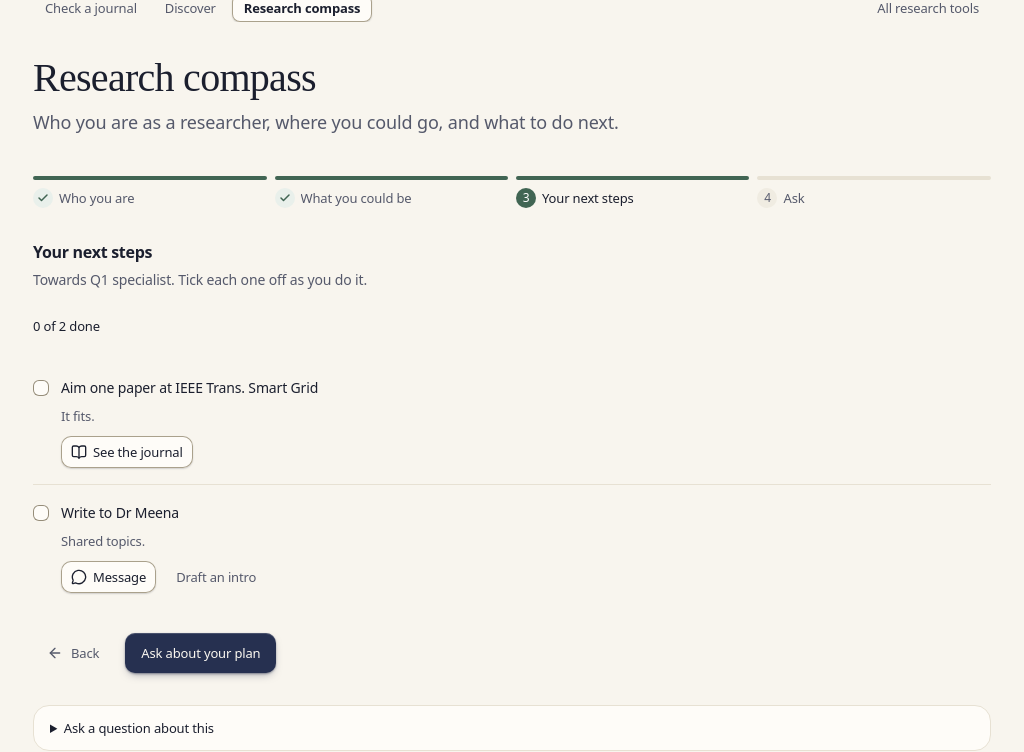
Test: Research compass › shows the daily limit inline when asking is used up
Step 1. Click the heading "Ask a question about this" → (139, 728), box top-left (64, 719), bottom-right (214, 737)
(page scrolled)
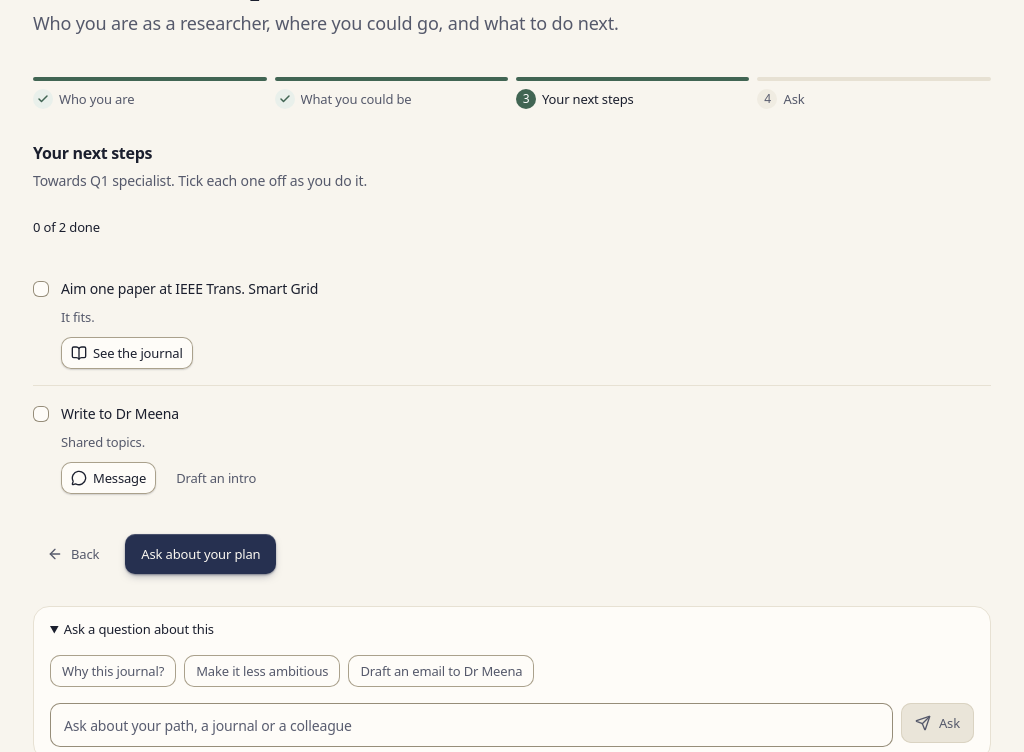
Step 2. Type "What next?" into the field named "Your question" → (472, 725), box top-left (50, 703), bottom-right (893, 747)
Then press Enter
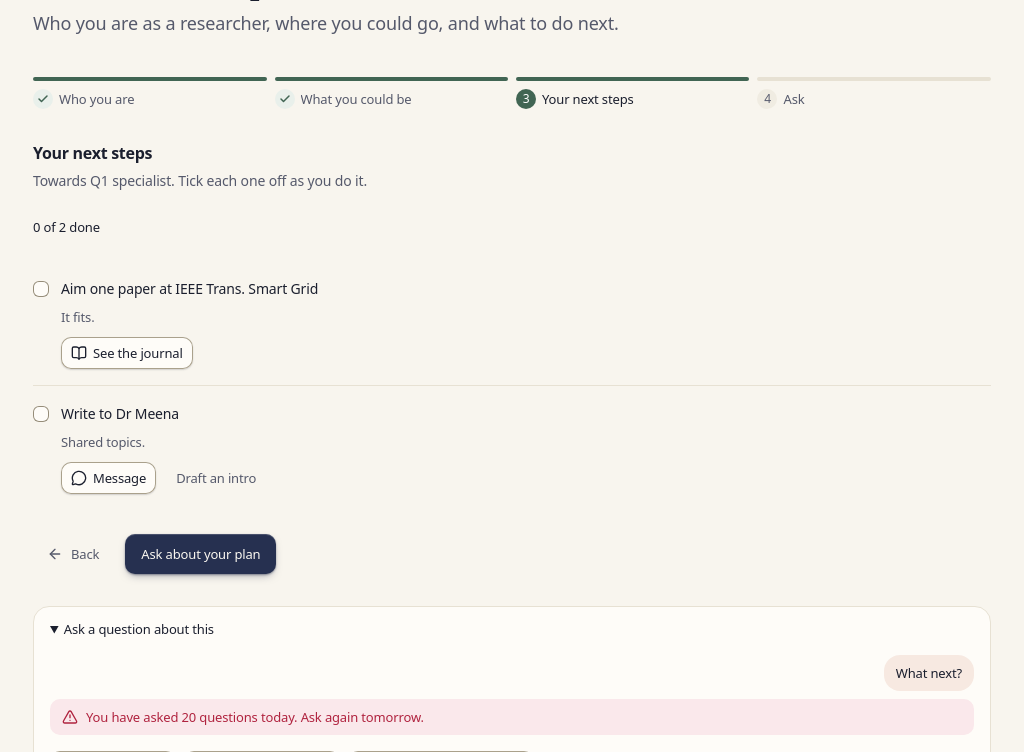
Expected: the text "You have asked 20 questions today. Ask again tomorrow." is shown, top-left (86, 708), bottom-right (424, 726)
